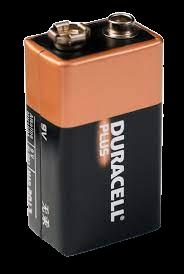9V Battery: (24, 12, 164, 256)
